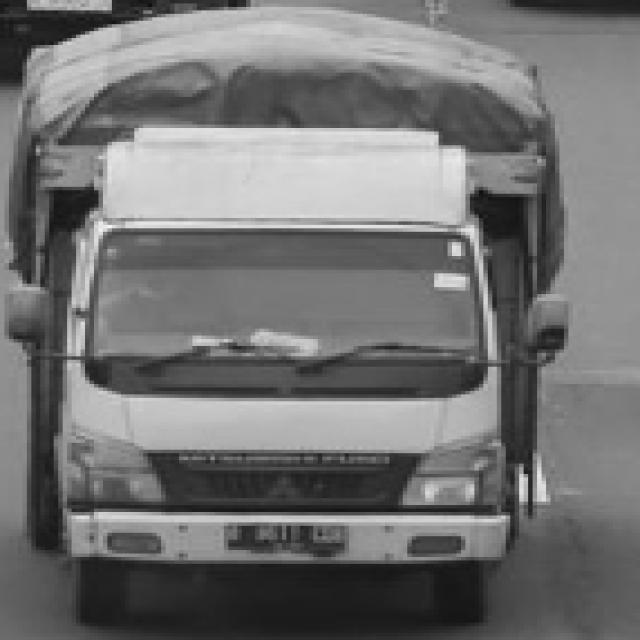Truck: (16, 29, 594, 612)
